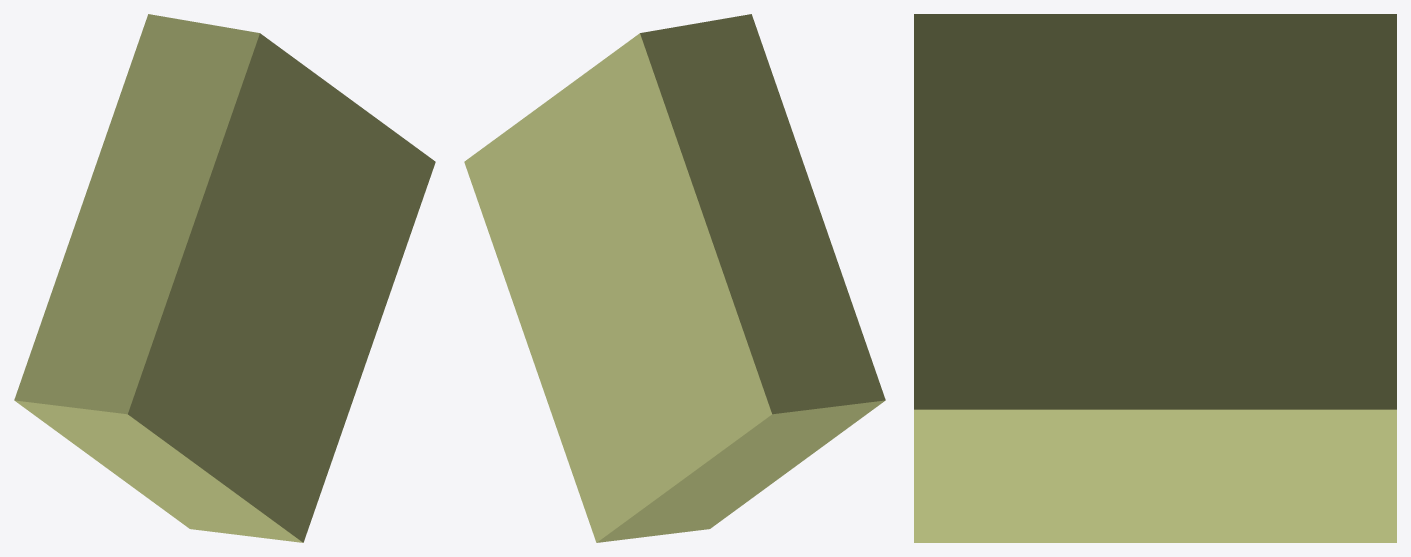
3 views of the same model, side by side, from view 1: azimuth 30°, elevation 25°; view 2: azimuth 150°, elevation 25°; view 3: azimuth 270°, elevation 25° (orthographic). The views are drawn at different scales.
Visible parts, largest first — view 1: 0_0_1_3_2_1_1_2_0_2; view 2: 0_0_1_3_2_1_1_2_0_2; view 3: 0_0_1_3_2_1_1_2_0_2.
Boxes of the visible parts, box(x1,y1,x2,y2) form: 0_0_1_3_2_1_1_2_0_2: box(14, 14, 435, 542); 0_0_1_3_2_1_1_2_0_2: box(464, 14, 885, 542); 0_0_1_3_2_1_1_2_0_2: box(914, 14, 1396, 542).
Bounding box in the file's own units: 7.27 × 11.17 × 9.
